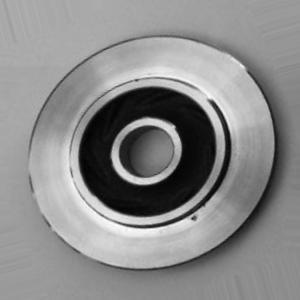defect: (182, 202, 207, 234)
